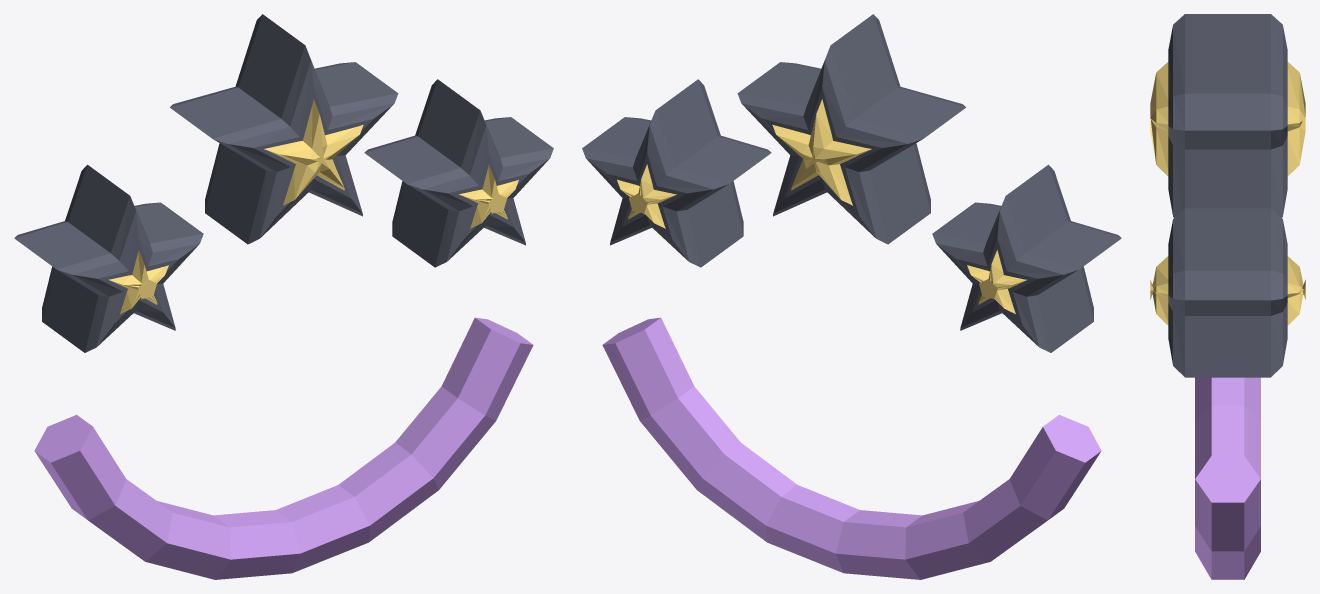
The model's file is game-ui-icon-library-stun-swirl-a39c456e__18997.glb.
The picture shows the model from 3 angles, left to right: view 1: azimuth 30°, elevation 25°; view 2: azimuth 150°, elevation 25°; view 3: azimuth 270°, elevation 25°; orthographic projection.
Parts seen in each view (by area): view 1: stun-swirl; view 2: stun-swirl; view 3: stun-swirl.
Part boxes in pixels (<box>): stun-swirl: <box>14,14,553,579</box>; stun-swirl: <box>582,14,1121,579</box>; stun-swirl: <box>1150,14,1305,579</box>.
Bounding box in the file's own units: 0.9096 × 0.94 × 0.245.
